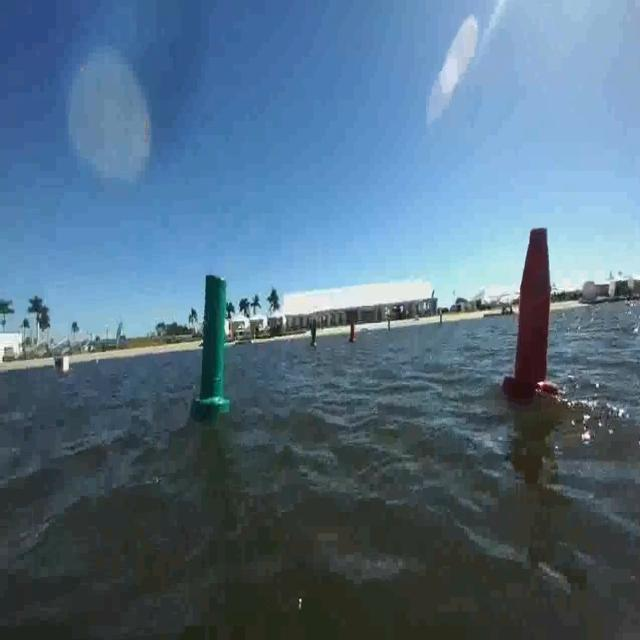green-column-buoy: (195, 271, 232, 417)
red-column-buoy: (504, 226, 559, 408)
